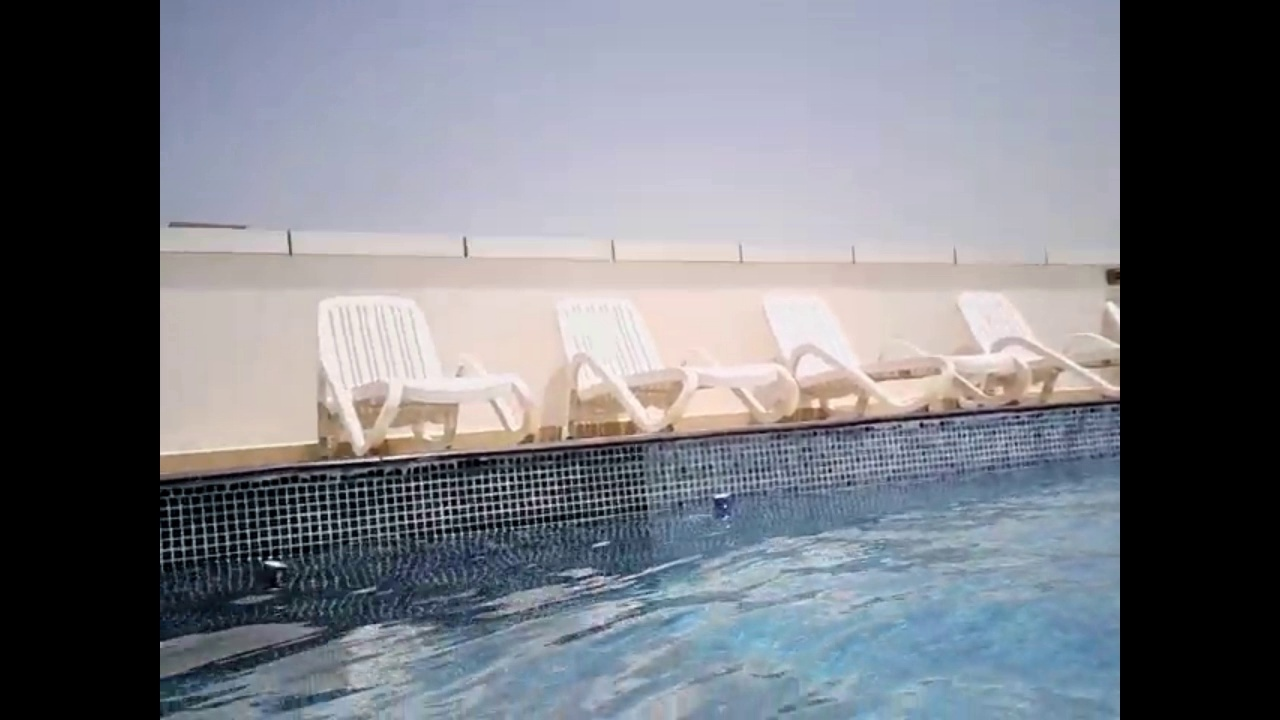debris: (249, 554, 293, 600), (706, 487, 738, 512)
